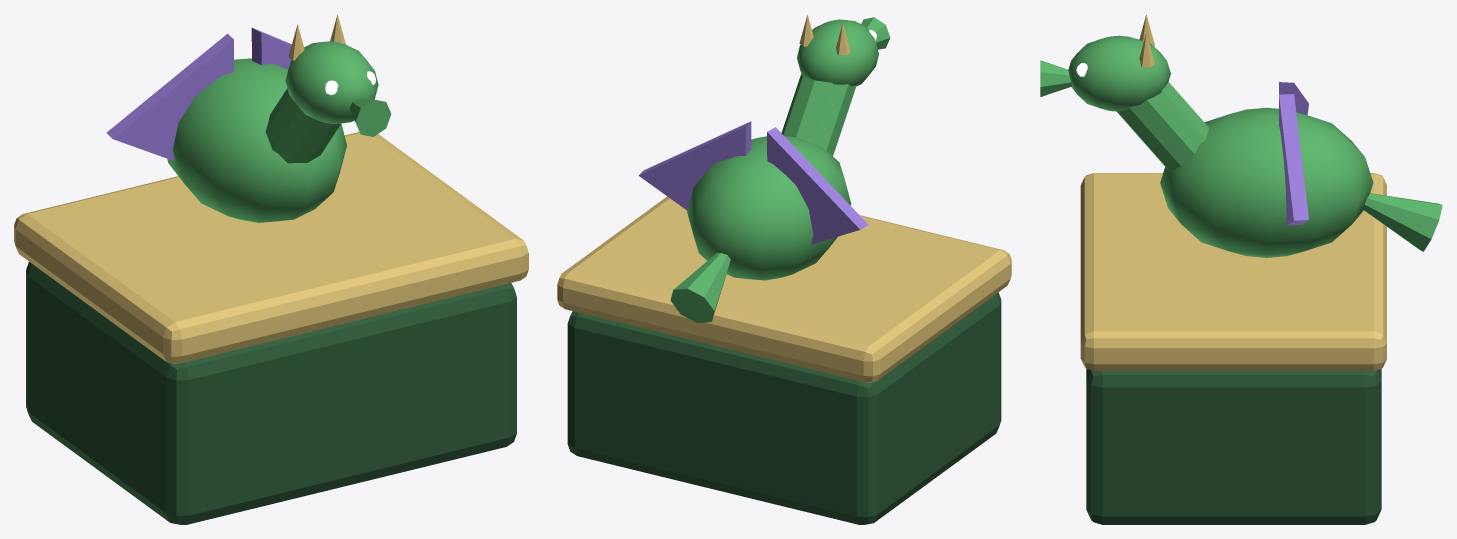
The model's file is dragon_exp.glb.
The picture shows the model from 3 angles, left to right: view 1: azimuth 30°, elevation 25°; view 2: azimuth 150°, elevation 25°; view 3: azimuth 270°, elevation 25°; orthographic projection. The views are drawn at different scales.
Visible parts, largest first — view 1: dragon_exp_deep, dragon_exp_gold, dragon_exp_green, dragon_exp_purple; view 2: dragon_exp_deep, dragon_exp_gold, dragon_exp_green, dragon_exp_purple; view 3: dragon_exp_gold, dragon_exp_deep, dragon_exp_green, dragon_exp_purple.
Part boxes in pixels (x1=…): dragon_exp_deep: x1=26, y1=261, x2=516, y2=524; dragon_exp_gold: x1=14, y1=14, x2=528, y2=363; dragon_exp_green: x1=167, y1=41, x2=391, y2=222; dragon_exp_purple: x1=106, y1=28, x2=291, y2=161; dragon_exp_deep: x1=567, y1=292, x2=1001, y2=524; dragon_exp_gold: x1=557, y1=14, x2=1011, y2=382; dragon_exp_green: x1=670, y1=17, x2=890, y2=322; dragon_exp_purple: x1=638, y1=121, x2=868, y2=244; dragon_exp_gold: x1=1080, y1=14, x2=1386, y2=370; dragon_exp_deep: x1=1086, y1=369, x2=1381, y2=524; dragon_exp_green: x1=1040, y1=35, x2=1442, y2=257; dragon_exp_purple: x1=1279, y1=82, x2=1308, y2=225.
Size of the model in its own units: 0.365 by 0.431 by 0.3679.
